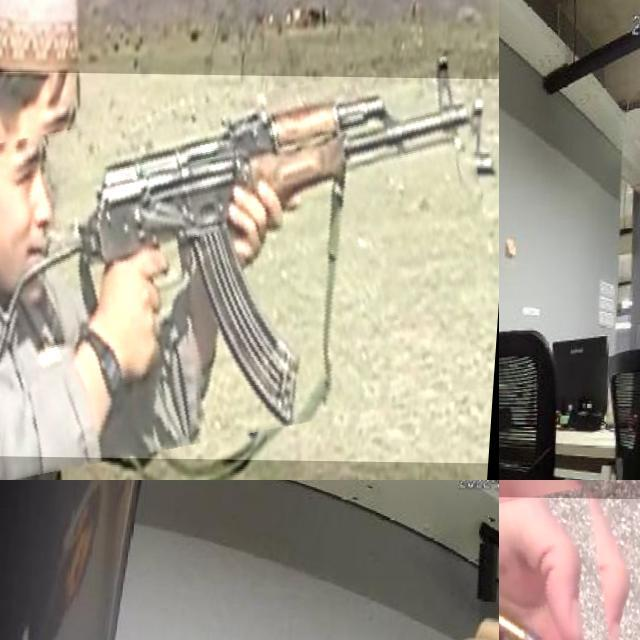-: (499, 351, 529, 410)
gun-knife-thesis - v11 Yolov5 augmented: (0, 71, 499, 461), (499, 493, 640, 640)
